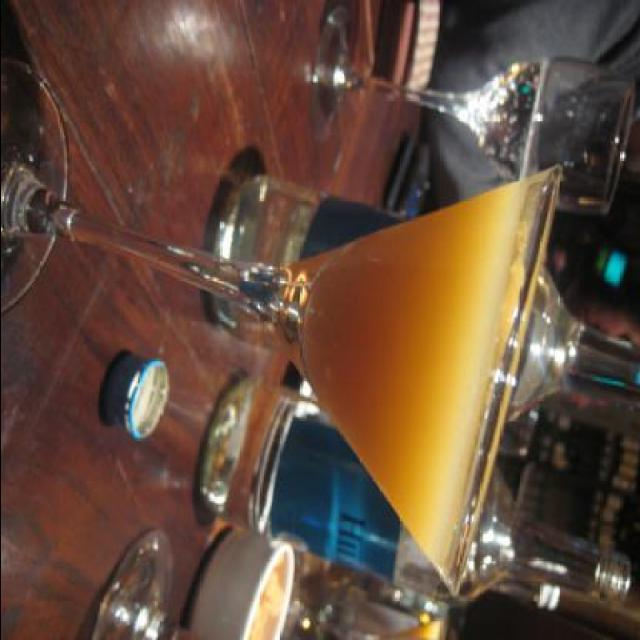Juice: (218, 157, 567, 580)
